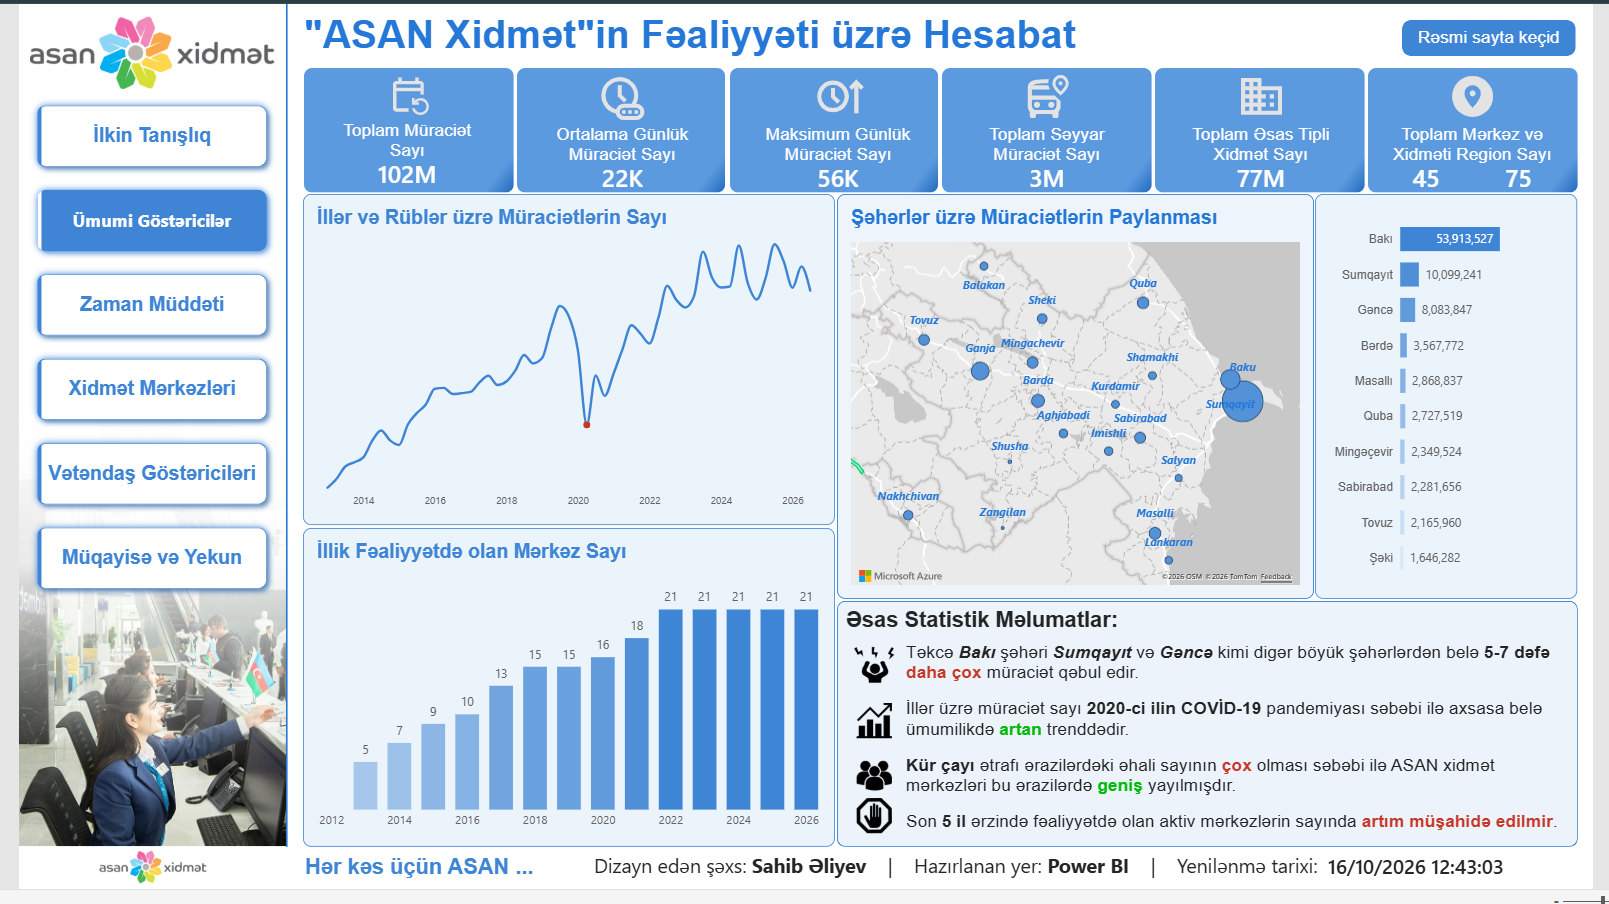

The page's visual inventory and layout, read from the dashboard file:
{"tool":"powerbi","page":{"name":"Ümumi Göstəricilər","canvas":[1920,1080],"ordinal":1},"visuals":[{"type":"image","box":[348,78,256,152],"z":0},{"type":"image","box":[58.6,1031.4,210,42.9],"z":1000},{"type":"image","box":[0,396,326.1,632.6],"z":2000},{"type":"image","box":[0,204,326,738],"z":3000},{"type":"shape","box":[315.7,0,21.4,1028.6],"z":4000},{"type":"image","box":[14,8,298,102],"z":5000},{"type":"textbox","box":[701.2,1034.5,900.3,36.8],"z":6000},{"type":"textbox","box":[348,10,966,62],"z":7000},{"type":"image","box":[608,78,254,152],"z":8000},{"type":"image","box":[868,78,254,152],"z":9000},{"type":"image","box":[1126,78,256,152],"z":10000},{"type":"cardVisual","title":"Toplam Müraciət Sayı","fields":{"Data":["Ölçülər.Toplam Müraciət"]},"box":[376,142,196,78],"z":11000},{"type":"cardVisual","title":"Ortalama Günlük Müraciət Sayı","fields":{"Data":["Ölçülər.Günlük Ortalama"]},"box":[640,146,194,78],"z":12000},{"type":"cardVisual","title":"Maksimum Günlük Müraciət Sayı","fields":{"Data":["Ölçülər.Pik Müraciət"]},"box":[872,146,254,78],"z":13000},{"type":"cardVisual","title":"Toplam Səyyar Müraciət Sayı","fields":{"Data":["Ölçülər.Səyyar Müraciətlər"]},"box":[1150,146,210,78],"z":14000},{"type":"image","box":[1386,78,256,152],"z":15000},{"type":"image","box":[1646,78,256,152],"z":16000},{"type":"cardVisual","title":"Toplam Əsas Tipli Xidmət Sayı","fields":{"Data":["Ölçülər.Əsas Xidmətlər"]},"box":[1404,146,222,78],"z":17000},{"type":"cardVisual","title":"Toplam Mərkəz və Xidməti Region Sayı","fields":{"Data":["Ölçülər.Mərkəz Sayı","Ölçülər.Region Sayı"]},"box":[1664,146,218,78],"z":18000},{"type":"image","box":[450,80,50,60],"z":19000},{"type":"image","box":[702,84,68,60],"z":20000},{"type":"image","box":[960,82,84,62],"z":21000},{"type":"image","box":[1222,84,64,60],"z":22000},{"type":"image","box":[1486,82,60,62],"z":23000},{"type":"image","box":[1744,82,60,62],"z":24000},{"type":"azureMap","title":"Şəhərlər üzrə Müraciətlərin Paylanması","fields":{"Category":["Dim_Branch.city_region"],"Size":["Sum(Fact_Main.appeal_count)"]},"box":[998,232,582,494],"z":25000},{"type":"barChart","fields":{"Category":["Dim_Branch.city_region_az"],"Y":["Ölçülər.Toplam Müraciət"]},"box":[1582,232,320,494],"z":26000},{"type":"actionButton","box":[1687.5,20,212,44],"z":27000},{"type":"textbox","box":[348.6,1037.1,286,32],"z":28000},{"type":"lineChart","title":"İllər və Rüblər üzrə Müraciətlərin Sayı","fields":{"Category":["Dim_Date.date.Variation.Date Hierarchy.Year","Dim_Date.date.Variation.Date Hierarchy.Quarter"],"Y":["Sum(Fact_Main.appeal_count)"]},"box":[347.2,232.1,649.1,403.8],"z":29000},{"type":"columnChart","title":"İllik Fəaliyyətdə olan Mərkəz Sayı","fields":{"Category":["Dim_Date.date.Variation.Date Hierarchy.Year"],"Y":["Ölçülər.İllər üzrə Mərkəz Sayı"]},"box":[347.2,639.6,649.1,388.7],"z":30000},{"type":"shape","box":[998,728,904,300],"z":31000},{"type":"textbox","box":[1082,778,808,234],"z":32000},{"type":"textbox","box":[1008.8,736.2,378,32],"z":33000},{"type":"image","box":[1008.8,920,68.8,42.5],"z":34000},{"type":"image","box":[1008.8,852.5,68.8,42.5],"z":35000},{"type":"image","box":[1008.8,781.2,68.8,51.2],"z":36000},{"type":"image","box":[1008.8,968.8,68.8,42.5],"z":37000},{"type":"pageNavigator","box":[13,114.7,298.7,610.3],"z":38000},{"type":"cardVisual","fields":{"Data":["Min(Yenilənmə Tarixi.Yenilənmə Tarixi)"]},"box":[1582,1036.6,320.3,32.5],"z":39000}]}

Visuals, with their boxes in screenshot pixels (x1, y1, x2, y2), scaled from the page's 1920x1080 canvas onto the 1609x904 screenshot:
image: [292, 65, 506, 193]
image: [49, 863, 225, 899]
image: [0, 331, 273, 861]
image: [0, 171, 273, 788]
shape: [265, 0, 282, 861]
image: [12, 7, 261, 92]
textbox: [588, 866, 1342, 897]
textbox: [292, 8, 1101, 60]
image: [510, 65, 722, 193]
image: [727, 65, 940, 193]
image: [944, 65, 1158, 193]
"Toplam Müraciət Sayı" cardVisual: [315, 119, 479, 184]
"Ortalama Günlük Müraciət Sayı" cardVisual: [536, 122, 699, 187]
"Maksimum Günlük Müraciət Sayı" cardVisual: [731, 122, 944, 187]
"Toplam Səyyar Müraciət Sayı" cardVisual: [964, 122, 1140, 187]
image: [1161, 65, 1376, 193]
image: [1379, 65, 1594, 193]
"Toplam Əsas Tipli Xidmət Sayı" cardVisual: [1177, 122, 1363, 187]
"Toplam Mərkəz və Xidməti Region Sayı" cardVisual: [1394, 122, 1577, 187]
image: [377, 67, 419, 117]
image: [588, 70, 645, 121]
image: [804, 69, 875, 121]
image: [1024, 70, 1078, 121]
image: [1245, 69, 1296, 121]
image: [1462, 69, 1512, 121]
"Şəhərlər üzrə Müraciətlərin Paylanması" azureMap: [836, 194, 1324, 608]
barChart - Dim_Branch.city_region_az x Ölçülər.Toplam Müraciət: [1326, 194, 1594, 608]
actionButton: [1414, 17, 1592, 54]
textbox: [292, 868, 532, 895]
"İllər və Rüblər üzrə Müraciətlərin Sayı" lineChart: [291, 194, 835, 532]
"İllik Fəaliyyətdə olan Mərkəz Sayı" columnChart: [291, 535, 835, 861]
shape: [836, 609, 1594, 860]
textbox: [907, 651, 1584, 847]
textbox: [845, 616, 1162, 643]
image: [845, 770, 903, 806]
image: [845, 714, 903, 749]
image: [845, 654, 903, 697]
image: [845, 811, 903, 846]
pageNavigator: [11, 96, 261, 607]
cardVisual - Min(Yenilənmə Tarixi.Yenilənmə Tarixi): [1326, 868, 1594, 895]
